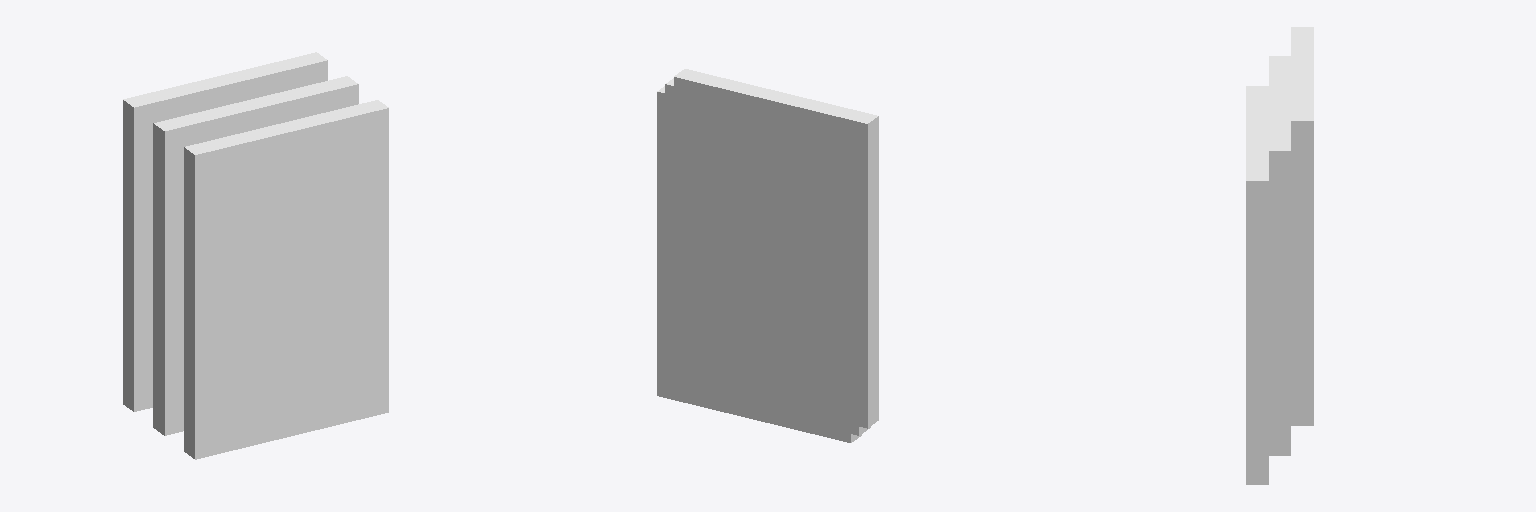
File: Efe.obj
3 renders of one model, left to right at view 1: azimuth 30°, elevation 25°; view 2: azimuth 150°, elevation 25°; view 3: azimuth 270°, elevation 25°, orthographic.
Visible parts, largest first — view 1: object 1; view 2: object 1; view 3: object 1.
Boxes of the visible parts, <box> form: object 1: <box>123,52,388,459</box>; object 1: <box>657,69,878,442</box>; object 1: <box>1246,27,1313,484</box>.
Size of the model in its own units: 1.2 by 1.7 by 0.3.